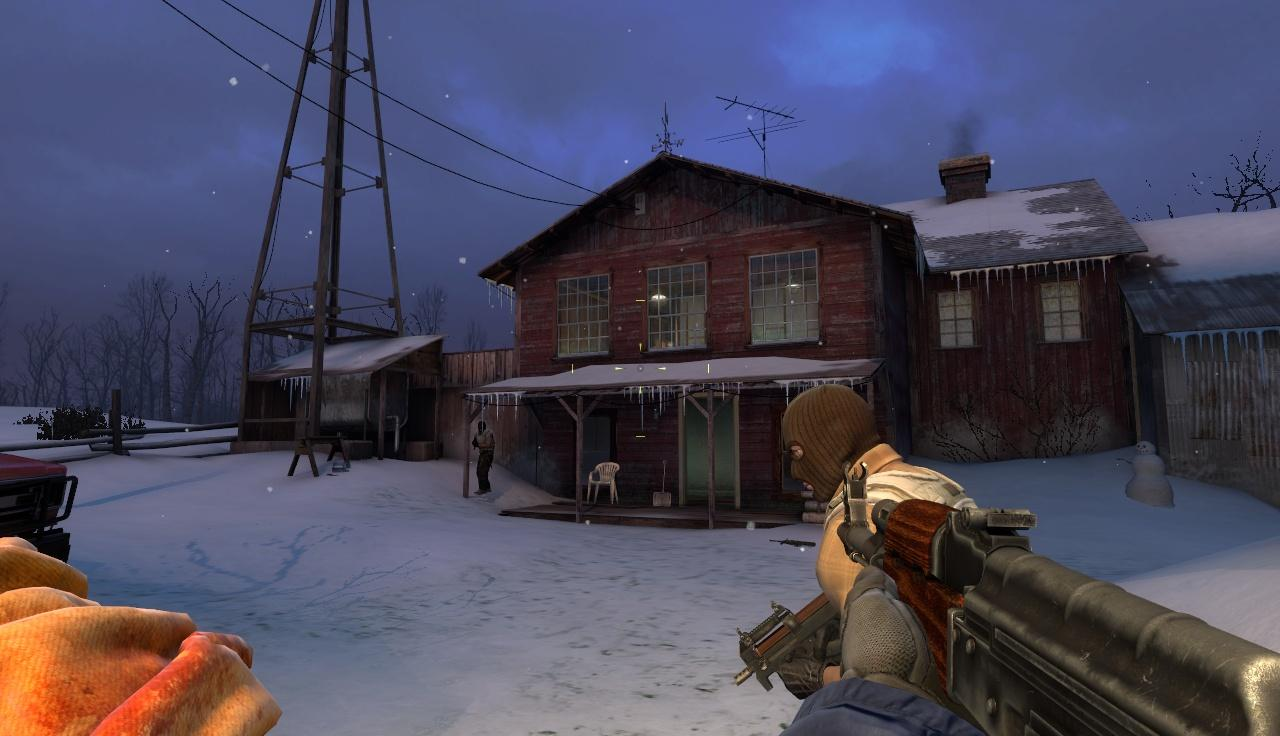rifle: (842, 469, 1280, 736)
tt: (475, 421, 493, 495)
tthead: (780, 383, 896, 500), (477, 421, 486, 434)
